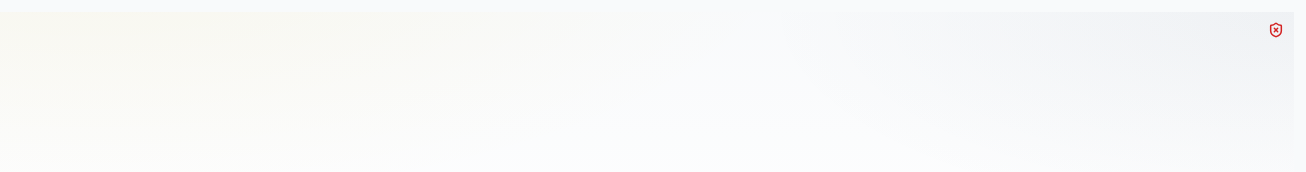
Test: does not update the profile on a not-found response
Click the button: point(1276, 30) [1258,12,1294,48]
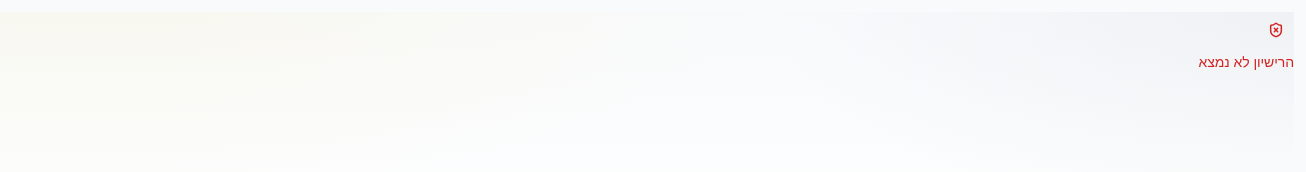
Now the message "הרישיון לא נמצא" is shown, box [1198,53,1294,70]
